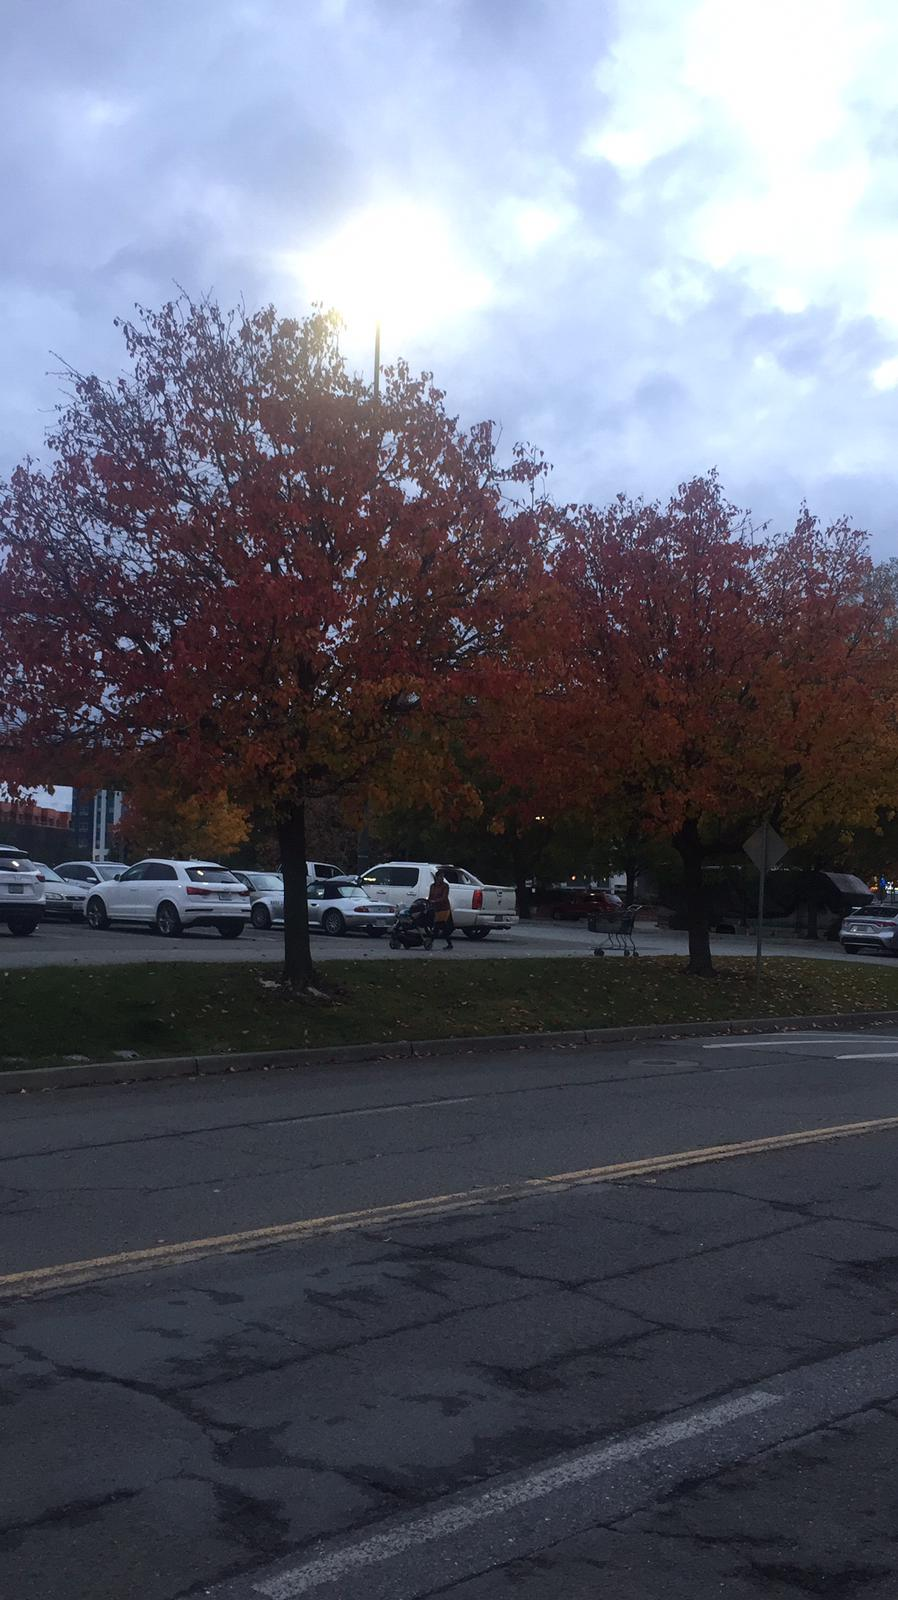plants: (20, 322, 523, 798), (530, 512, 898, 984)
